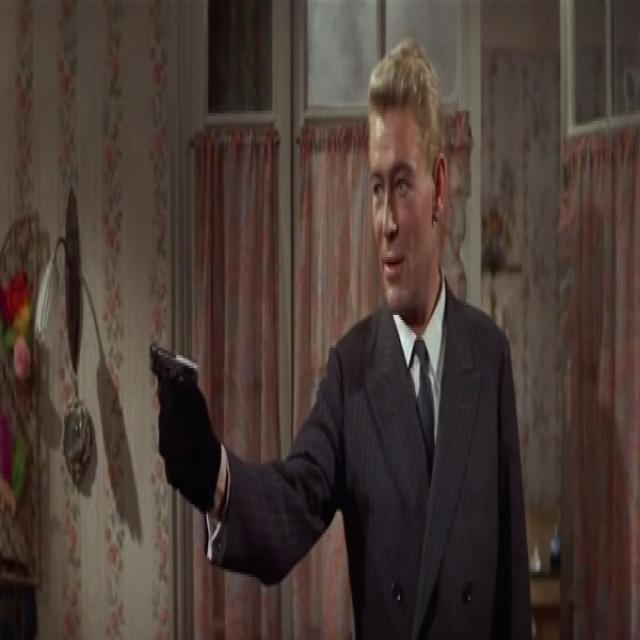weapons: (135, 282, 218, 512)
